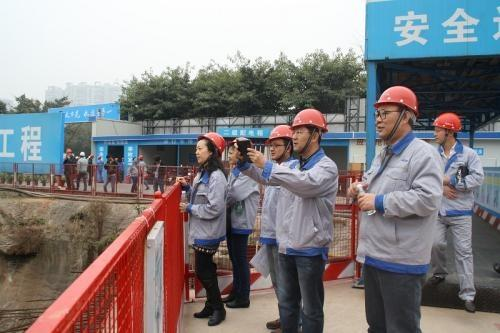Helmet: (373, 85, 419, 144), (289, 108, 327, 154)
